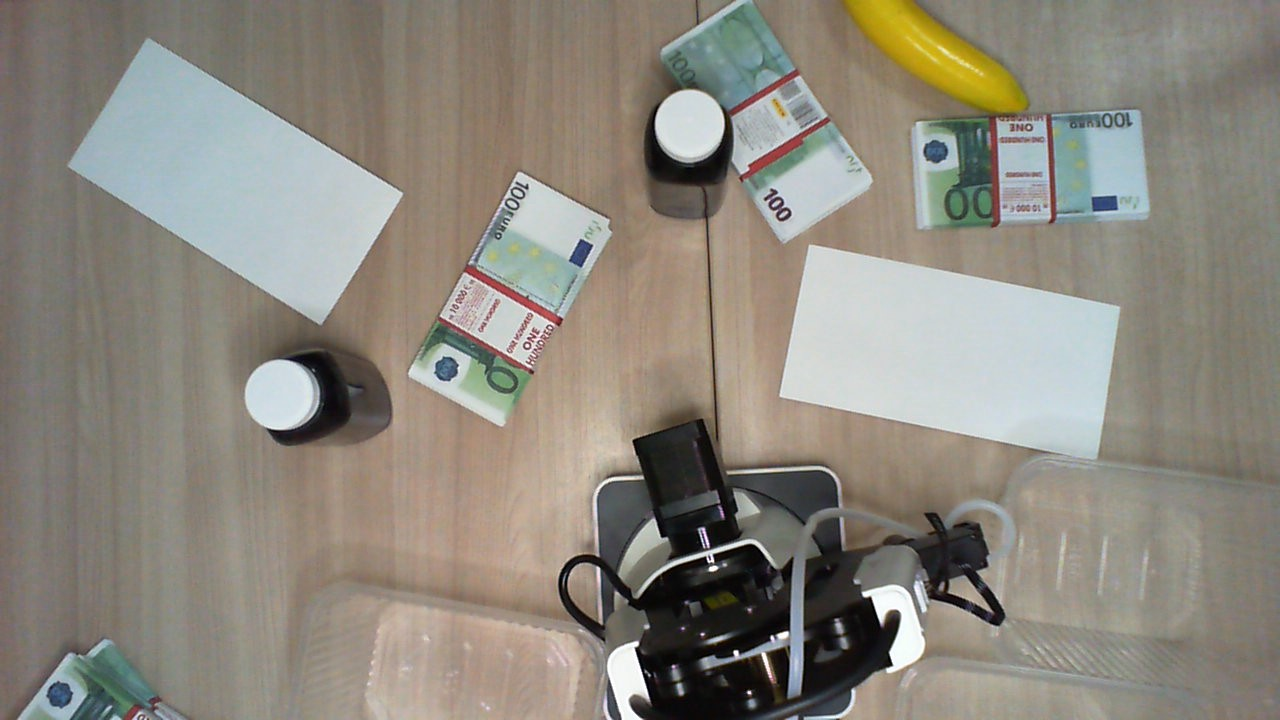banana: (845, 1, 1032, 117)
bottle: (244, 346, 346, 448), (648, 92, 735, 192)
convert: (64, 34, 403, 329), (782, 242, 1123, 466)
money: (410, 170, 613, 430), (669, 1, 877, 236), (913, 110, 1148, 232), (19, 635, 197, 720)
